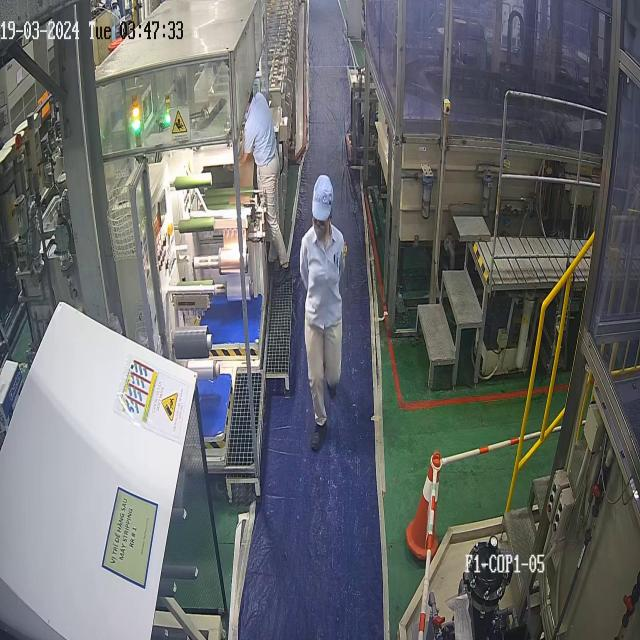Person: (298, 174, 346, 450), (236, 90, 290, 286)
